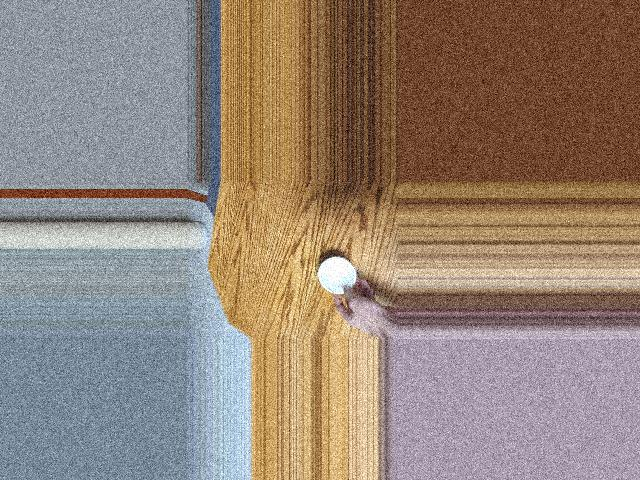cotage: (318, 256, 358, 295)
